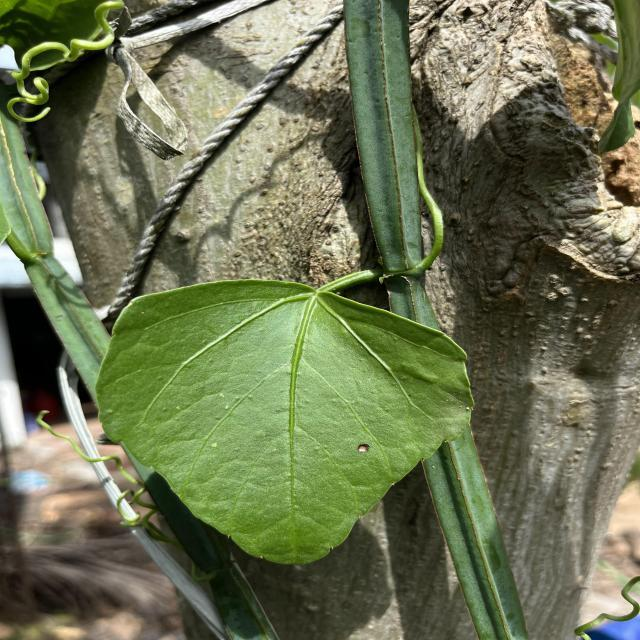Cissus quadrangularis: (92, 274, 480, 568)
